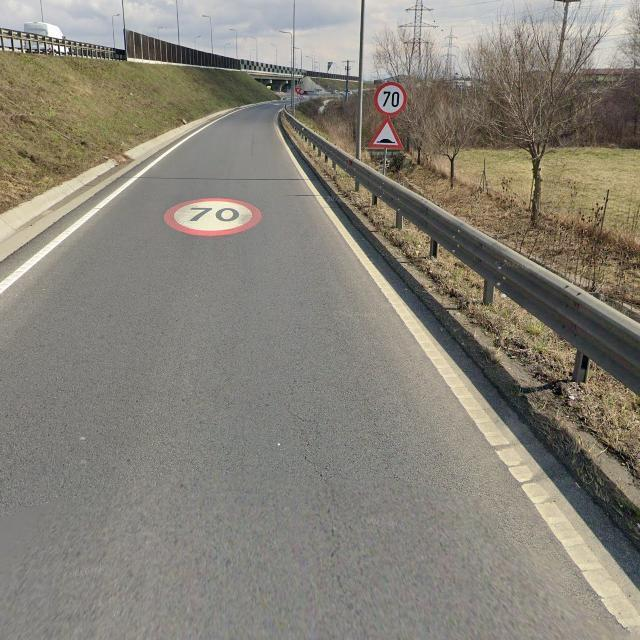forb_speed_over_70: (165, 198, 263, 238), (374, 81, 407, 116)
prio_give_way: (295, 88, 302, 95)
